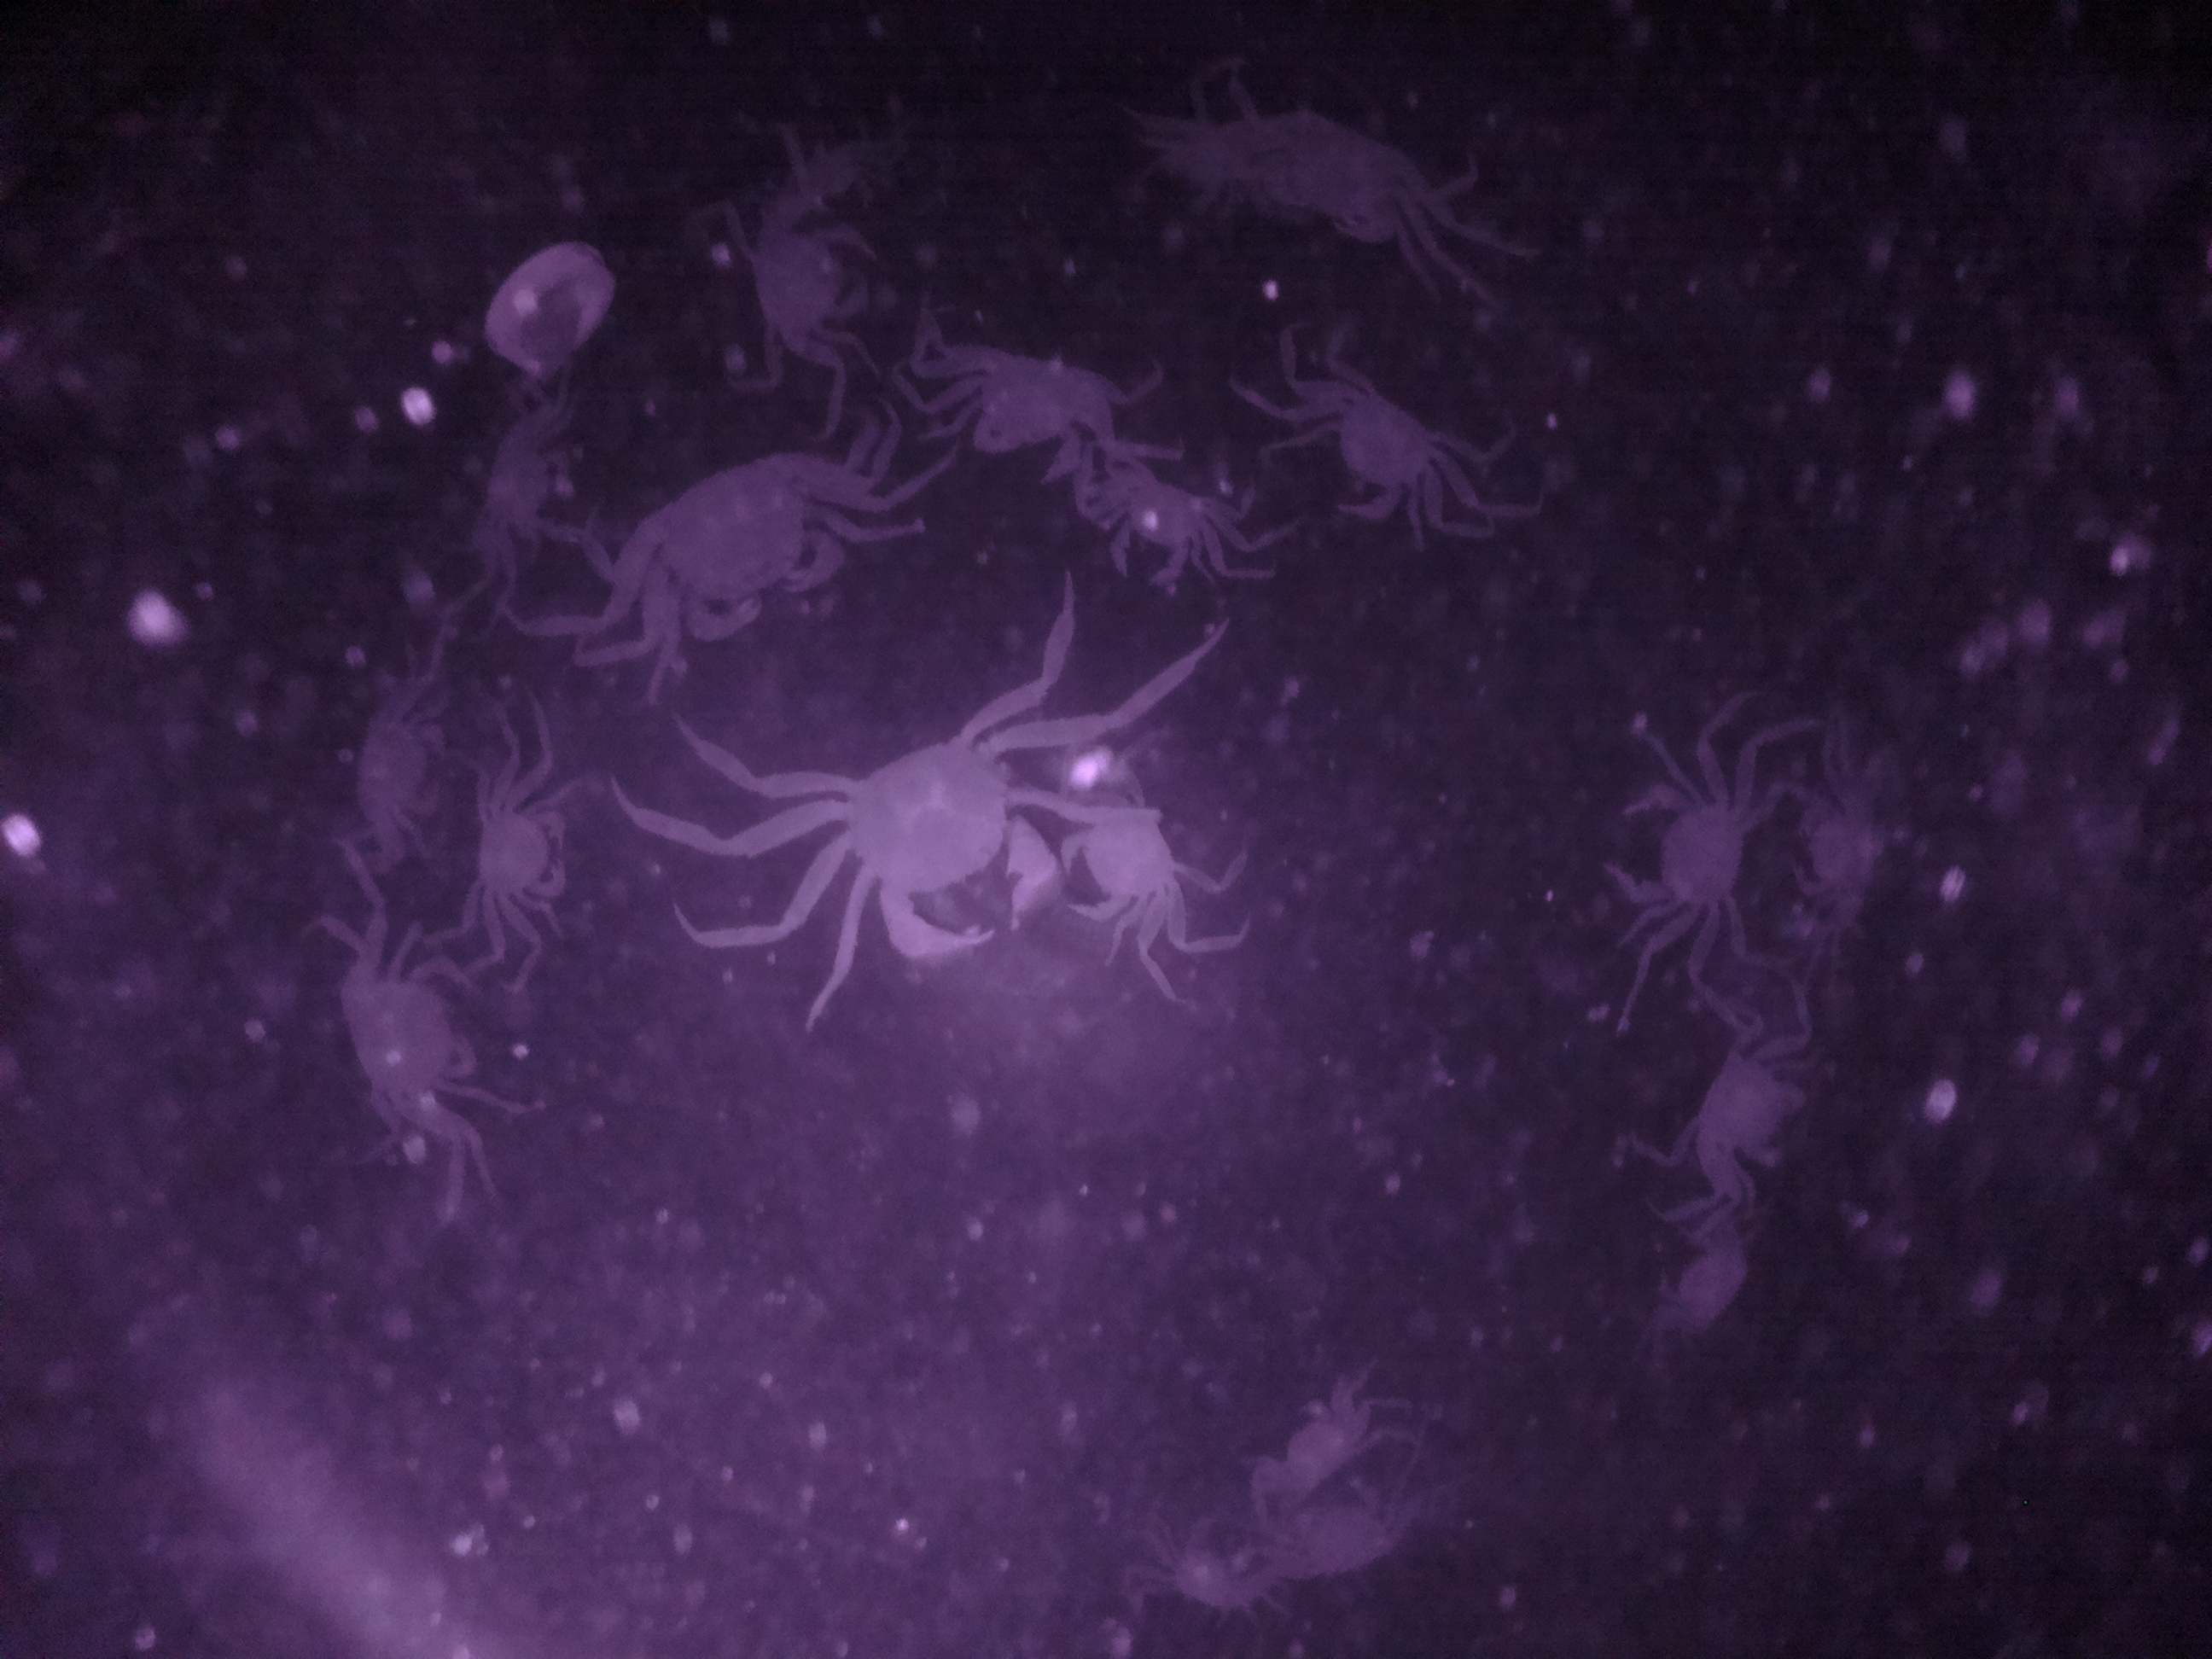Crab: (801, 687, 1055, 988), (589, 441, 902, 640), (732, 173, 892, 378), (1278, 359, 1472, 525), (1599, 767, 1766, 943), (340, 941, 496, 1122), (1047, 767, 1202, 948), (1669, 1030, 1810, 1223), (928, 340, 1130, 462), (338, 678, 460, 871), (456, 767, 583, 932), (1087, 462, 1242, 584)
